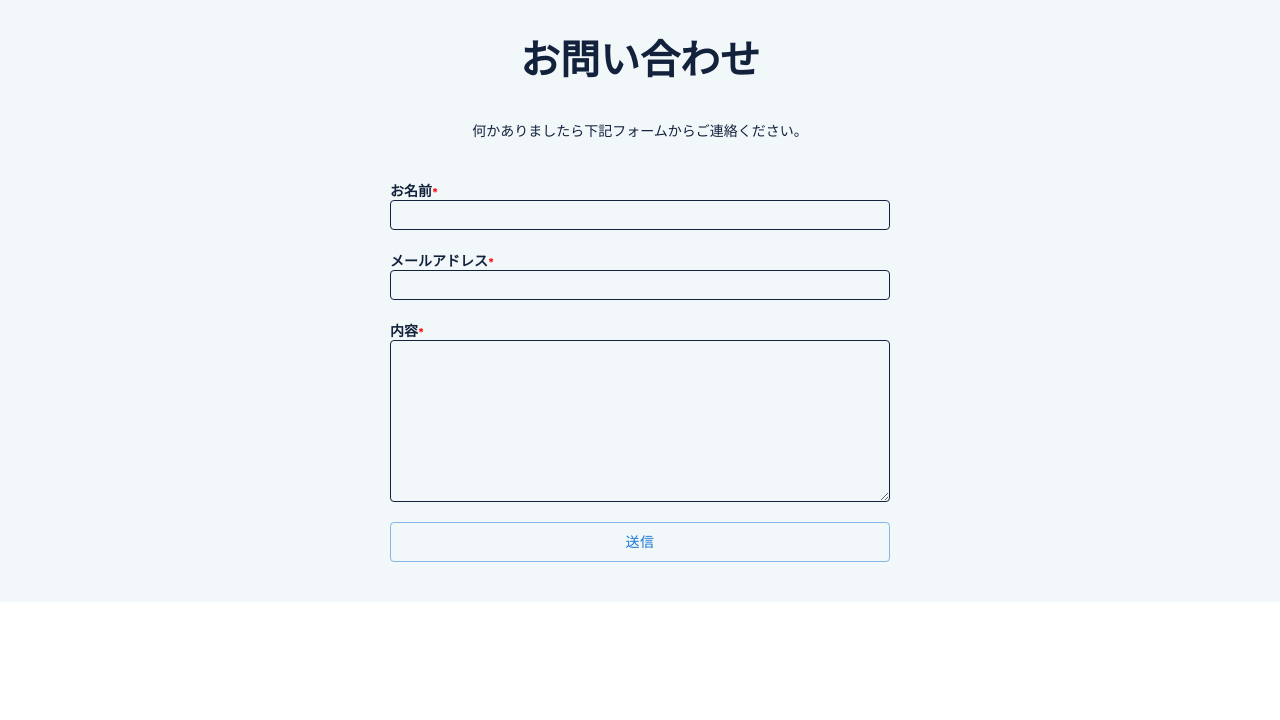
メール送信で成功テキストが表示される
In the field with test id "inputName": (640,215) [390,200,890,230], type "hoge"
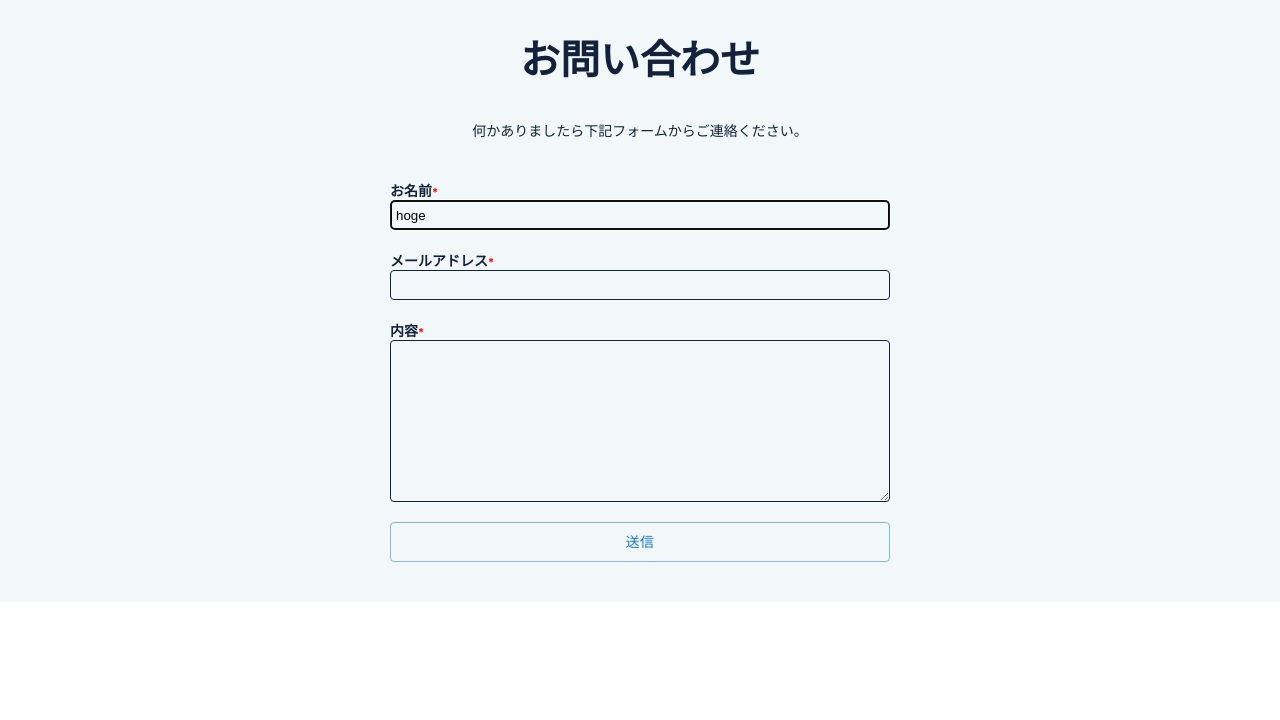
In the field with test id "inputEmail": (640,285) [390,270,890,300], type "info@example.com"
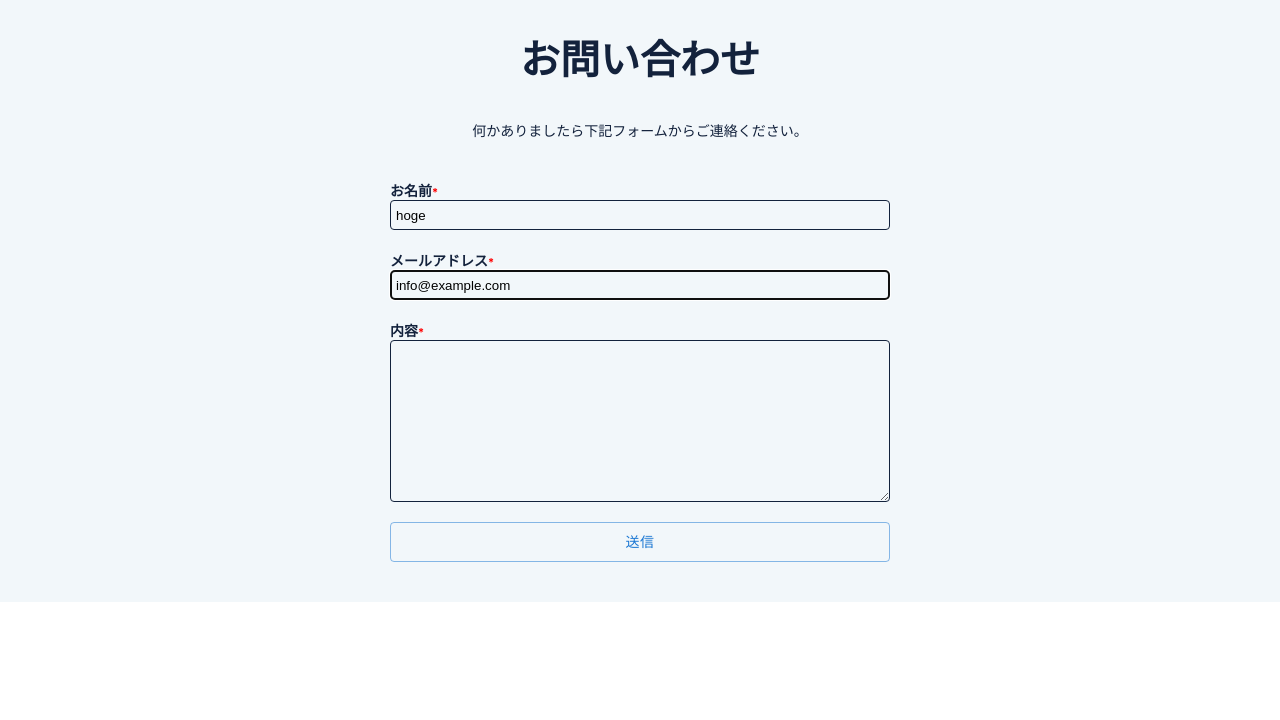
In the text box with test id "inputTextarea": (640,421) [390,340,890,502], type "fuga fuga"
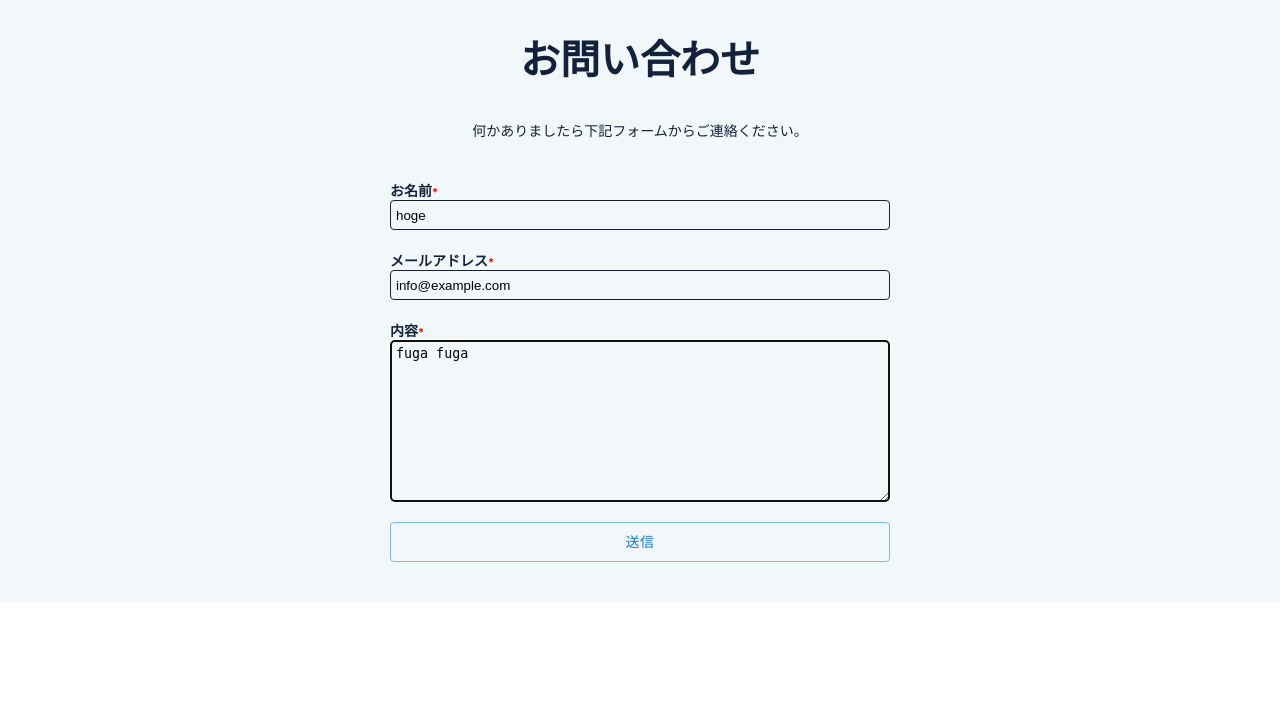
Click the button: (640,542) [390,522,890,562]
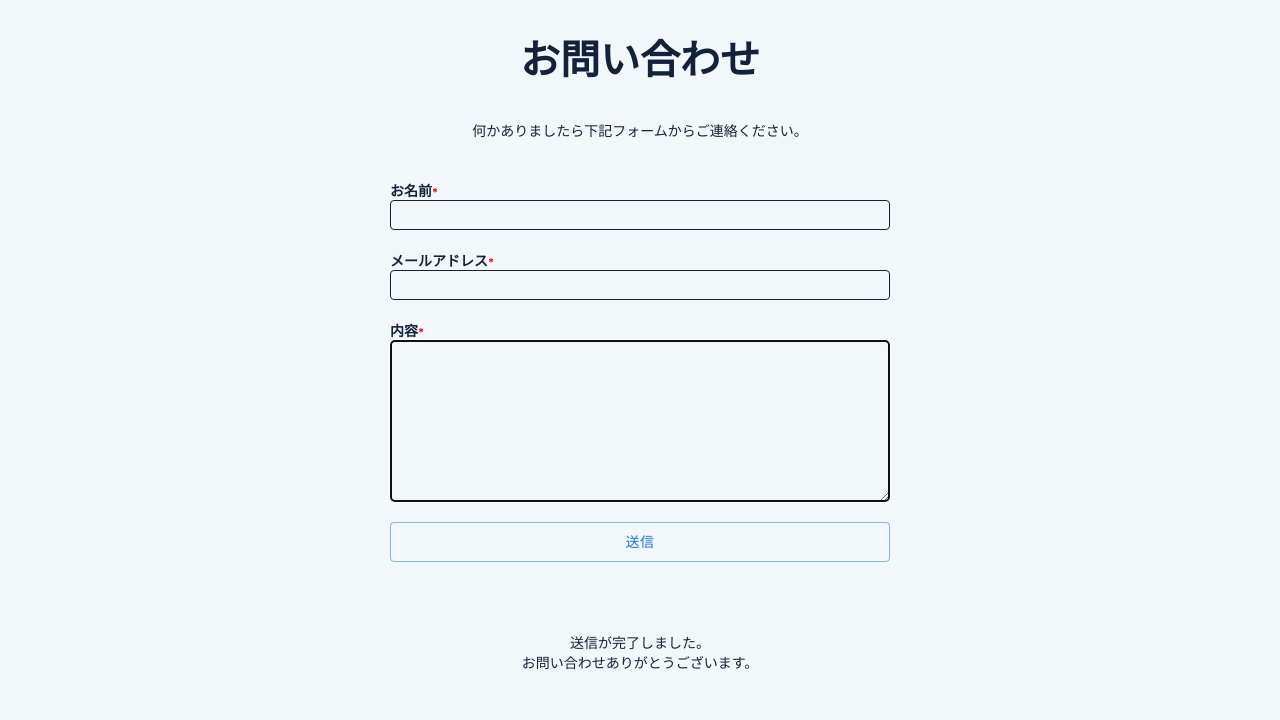
Now the element with test id "successMessage" is shown, box [522,632,758,672]
